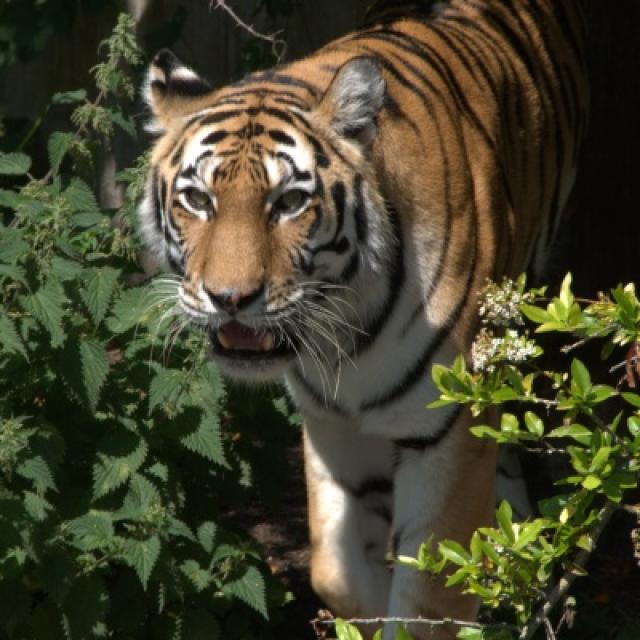Tiger: (143, 3, 595, 638)
